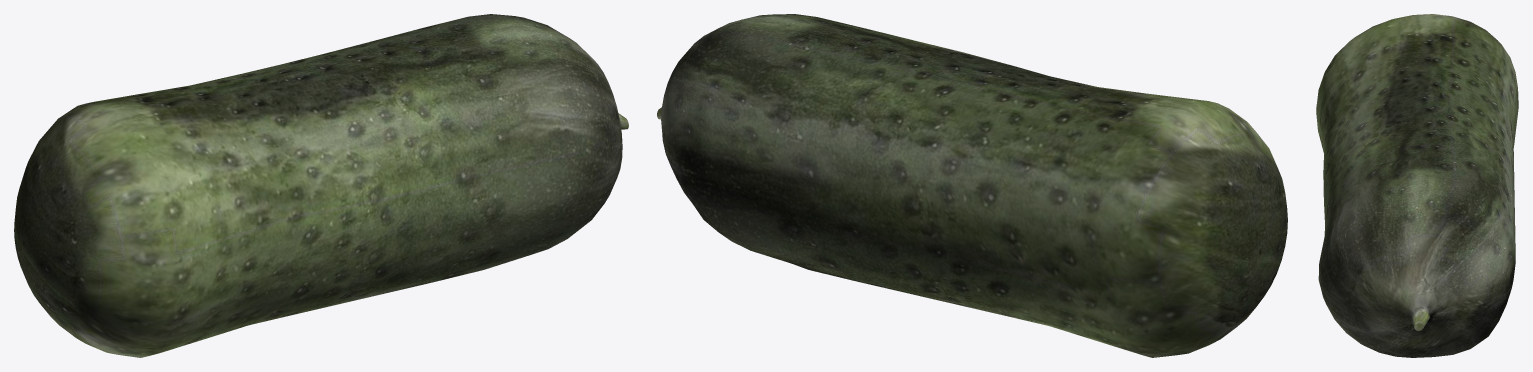
The picture shows the model from 3 angles, left to right: view 1: azimuth 30°, elevation 25°; view 2: azimuth 150°, elevation 25°; view 3: azimuth 270°, elevation 25°; orthographic projection. The views are drawn at different scales.
Size of the model in its own units: 1 by 0.3727 by 0.3588.
